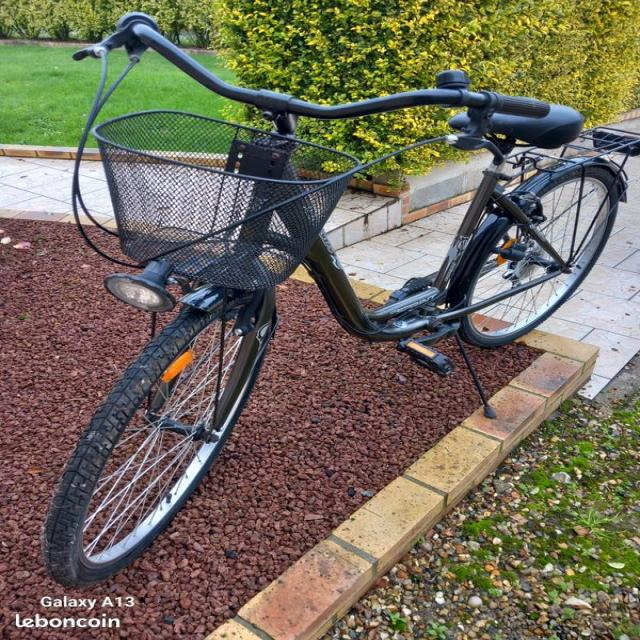Bike: (42, 13, 639, 587)
